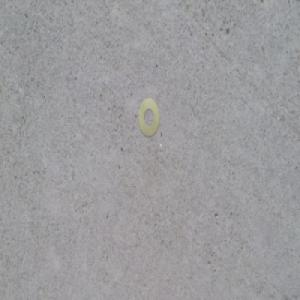Washer: (136, 95, 159, 139)
